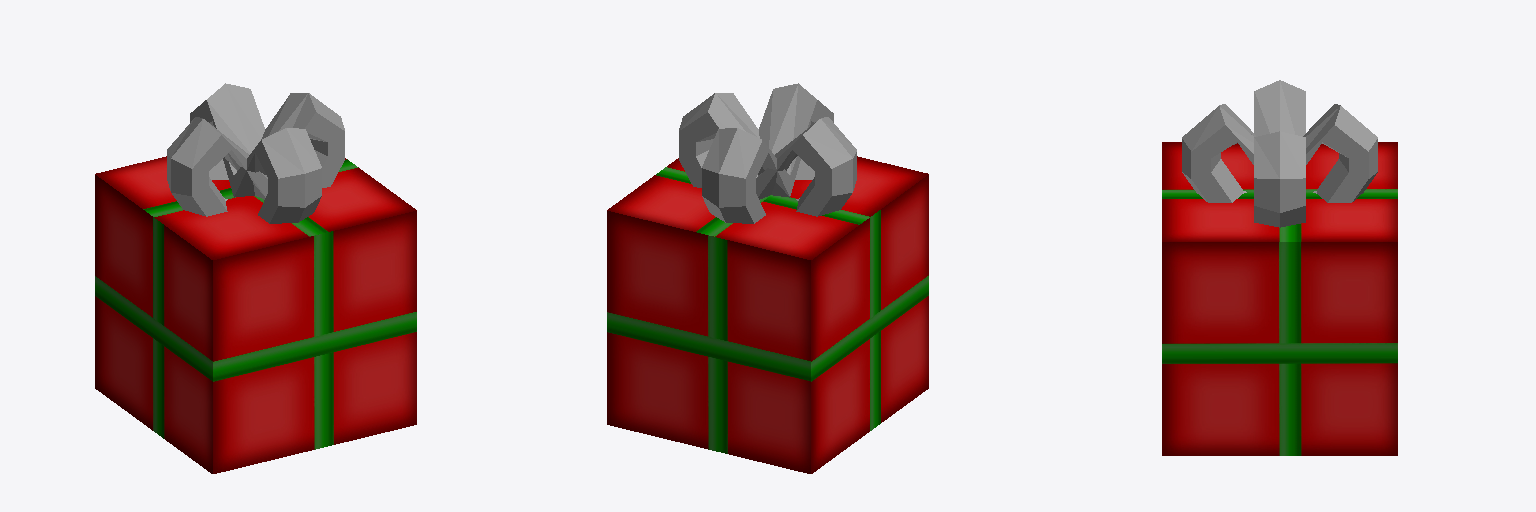
3 renders of one model, left to right at view 1: azimuth 30°, elevation 25°; view 2: azimuth 150°, elevation 25°; view 3: azimuth 270°, elevation 25°, orthographic.
Visible parts, largest first — view 1: Cube_Cube.001; view 2: Cube_Cube.001; view 3: Cube_Cube.001.
Part boxes in pixels (bbox=[...]): Cube_Cube.001: bbox=[95, 83, 416, 473]; Cube_Cube.001: bbox=[607, 83, 928, 473]; Cube_Cube.001: bbox=[1162, 80, 1397, 455].
Bounding box in the file's own units: 2 × 2.81 × 2.
2 materials, 1 textured.